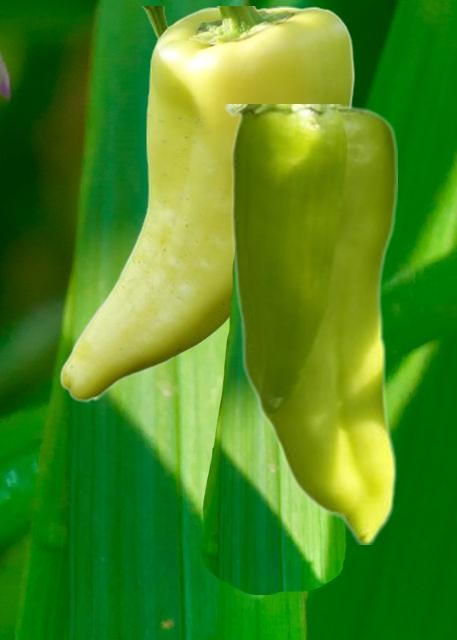green_chili: (59, 6, 354, 402), (223, 104, 396, 543)
